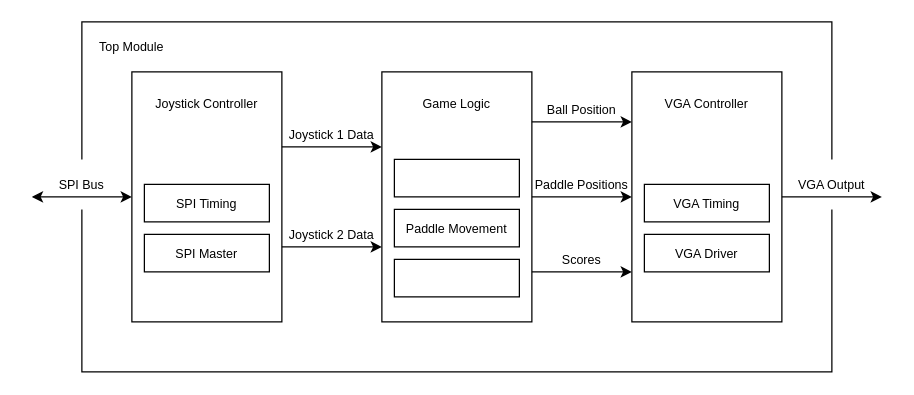
Some shapes in this 914 by 395 pixel diagram are drawn without their labels. The centre of each missing label's shape, as x and y in pixels:
Ball Movement: the point at 456,177
Collision Detection: the point at 456,277
